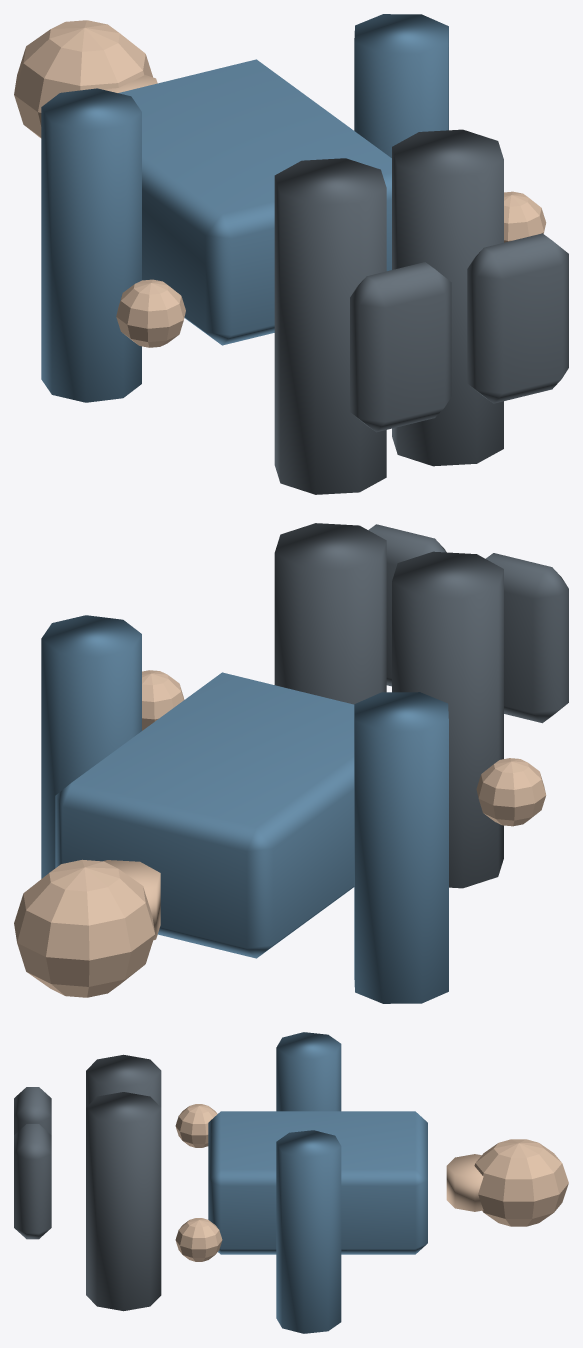
The model's file is LowPolyMannequin.fbx.
3 views of the same model, one above another, from view 1: azimuth 30°, elevation 25°; view 2: azimuth 150°, elevation 25°; view 3: azimuth 270°, elevation 25° (orthographic). The views are drawn at different scales.
Visible parts, largest first — view 1: Mannequin_Torso, Mannequin_Leg, Mannequin_Arm, Mannequin_Leg.001, Mannequin_Shoe, Mannequin_Shoe.001, Mannequin_Arm.001, Mannequin_Head, Mannequin_Hand, Mannequin_Hand.001; view 2: Mannequin_Torso, Mannequin_Arm, Mannequin_Leg, Mannequin_Leg.001, Mannequin_Arm.001, Mannequin_Head, Mannequin_Shoe, Mannequin_Hand, Mannequin_Shoe.001, Mannequin_Hand.001, Mannequin_Neck; view 3: Mannequin_Torso, Mannequin_Leg.001, Mannequin_Arm.001, Mannequin_Head, Mannequin_Arm, Mannequin_Shoe.001, Mannequin_Leg, Mannequin_Neck, Mannequin_Hand.001, Mannequin_Shoe, Mannequin_Hand.
Part boxes in pixels (bbox=[...]): Mannequin_Torso: bbox=[118, 59, 391, 345]; Mannequin_Leg: bbox=[274, 158, 386, 494]; Mannequin_Arm: bbox=[41, 88, 141, 402]; Mannequin_Leg.001: bbox=[392, 129, 503, 466]; Mannequin_Shoe: bbox=[350, 262, 451, 432]; Mannequin_Shoe.001: bbox=[467, 233, 568, 403]; Mannequin_Arm.001: bbox=[354, 14, 448, 157]; Mannequin_Head: bbox=[14, 20, 152, 138]; Mannequin_Hand: bbox=[116, 279, 185, 347]; Mannequin_Hand.001: bbox=[504, 191, 546, 242]; Mannequin_Torso: bbox=[55, 672, 354, 958]; Mannequin_Arm: bbox=[354, 692, 448, 1003]; Mannequin_Leg: bbox=[392, 551, 503, 888]; Mannequin_Leg.001: bbox=[274, 523, 386, 704]; Mannequin_Arm.001: bbox=[41, 615, 141, 878]; Mannequin_Head: bbox=[14, 859, 154, 997]; Mannequin_Shoe: bbox=[485, 553, 568, 723]; Mannequin_Hand: bbox=[476, 758, 546, 826]; Mannequin_Shoe.001: bbox=[368, 524, 446, 686]; Mannequin_Hand.001: bbox=[142, 670, 184, 730]; Mannequin_Neck: bbox=[103, 860, 160, 940]; Mannequin_Torso: bbox=[208, 1111, 427, 1254]; Mannequin_Leg.001: bbox=[86, 1092, 161, 1311]; Mannequin_Arm.001: bbox=[276, 1130, 341, 1333]; Mannequin_Head: bbox=[474, 1139, 568, 1226]; Mannequin_Arm: bbox=[276, 1032, 341, 1111]; Mannequin_Shoe.001: bbox=[14, 1124, 51, 1239]; Mannequin_Leg: bbox=[86, 1054, 161, 1107]; Mannequin_Neck: bbox=[446, 1154, 483, 1211]; Mannequin_Hand.001: bbox=[175, 1218, 222, 1261]; Mannequin_Shoe: bbox=[14, 1087, 51, 1134]; Mannequin_Hand: bbox=[175, 1104, 217, 1147].
Size of the model in its own units: 1 by 0.66 by 1.77.
